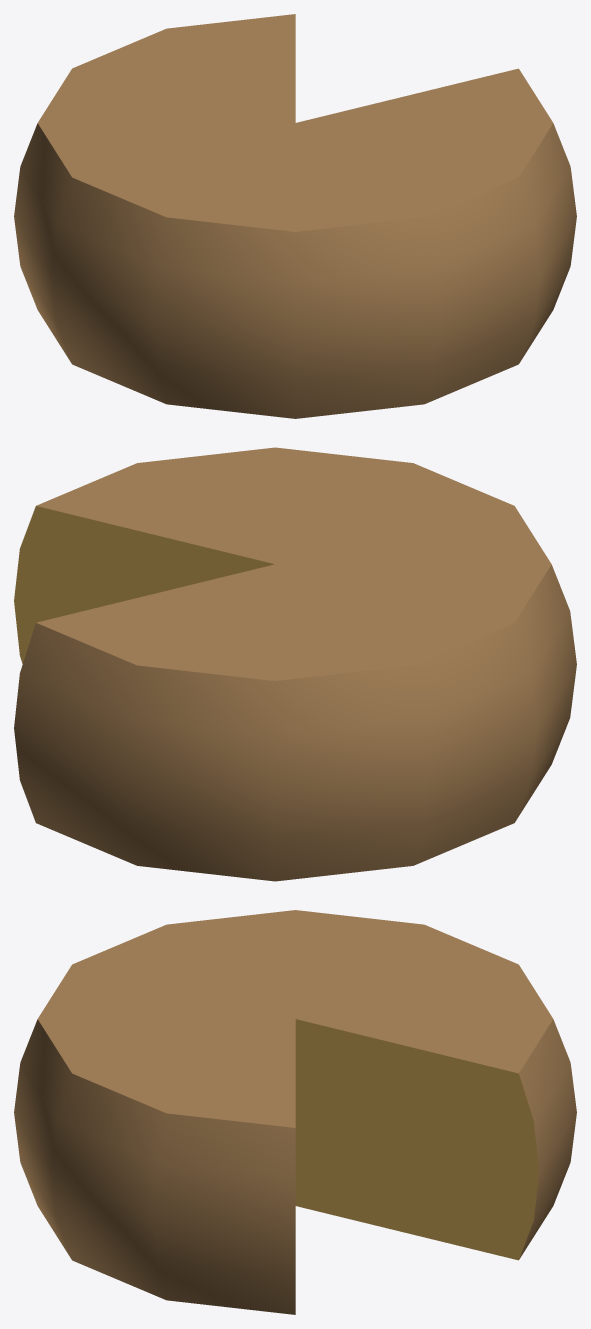
The model's file is Cheese.fbx.
The picture shows the model from 3 angles, top to bottom: view 1: azimuth 30°, elevation 25°; view 2: azimuth 150°, elevation 25°; view 3: azimuth 270°, elevation 25°; orthographic projection. The views are drawn at different scales.
Parts seen in each view (by area): view 1: Cylinder; view 2: Cylinder; view 3: Cylinder.
Part boxes in pixels (<box>): Cylinder: <box>14,14,576,418</box>; Cylinder: <box>14,447,576,881</box>; Cylinder: <box>14,910,576,1314</box>.
Bounding box in the file's own units: 32.75 × 12 × 32.75.
